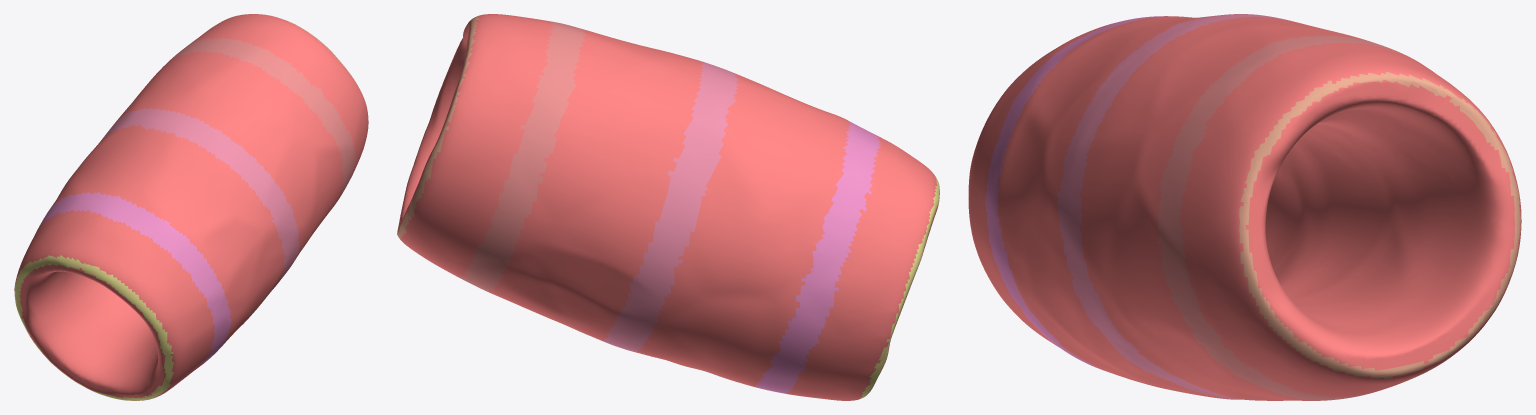
The picture shows the model from 3 angles, left to right: view 1: azimuth 30°, elevation 25°; view 2: azimuth 150°, elevation 25°; view 3: azimuth 270°, elevation 25°; orthographic projection. The views are drawn at different scales.
Visible parts, largest first — view 1: Tube_high; view 2: Tube_high; view 3: Tube_high.
Boxes of the visible parts, box(x1,y1,x2,y2) form: Tube_high: box(14, 14, 368, 400); Tube_high: box(397, 14, 939, 400); Tube_high: box(968, 14, 1521, 400).
Bounding box in the file's own units: 0.816 × 0.5978 × 0.6488.
